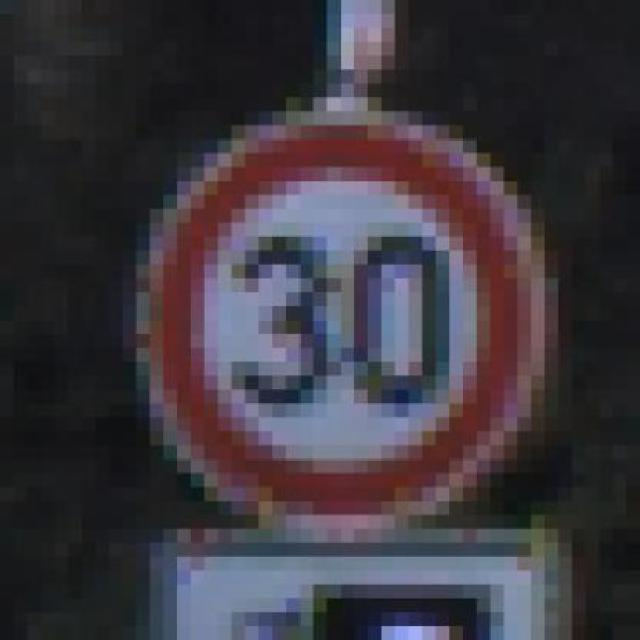Speed Limit 30 KMPh: (82, 97, 626, 543)
